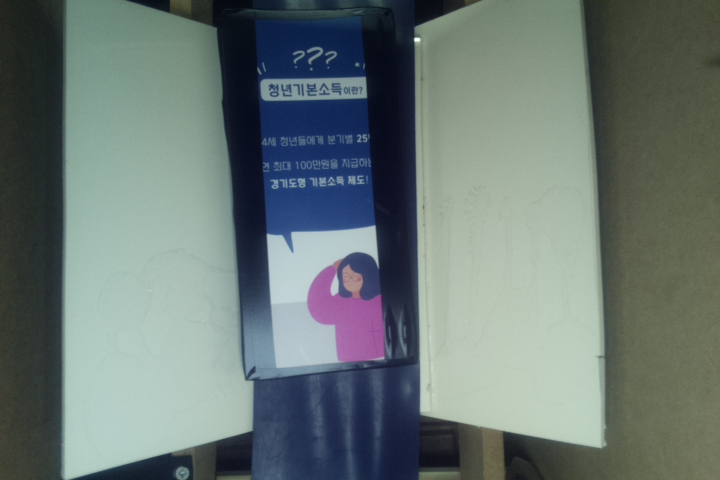book: (218, 1, 420, 382)
